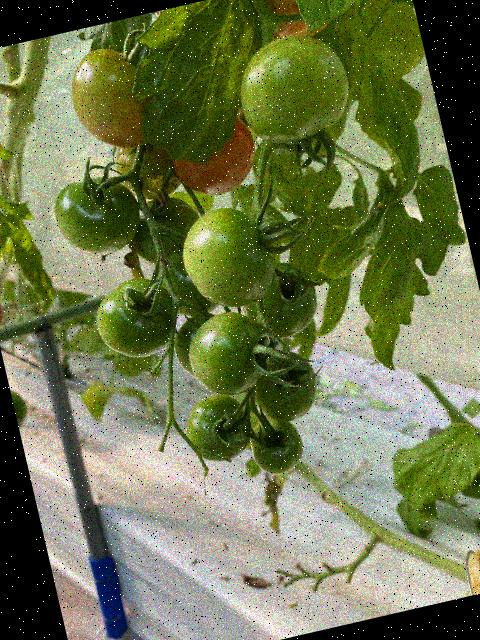l_green: (227, 24, 359, 152), (119, 190, 220, 327), (173, 199, 282, 317), (62, 39, 164, 158), (180, 303, 279, 403), (48, 168, 148, 264), (89, 271, 184, 365), (234, 255, 324, 345), (243, 345, 324, 428), (178, 387, 258, 469), (246, 413, 309, 480), (167, 311, 227, 381)
l_half_ripened: (165, 112, 263, 203), (111, 135, 184, 206)
